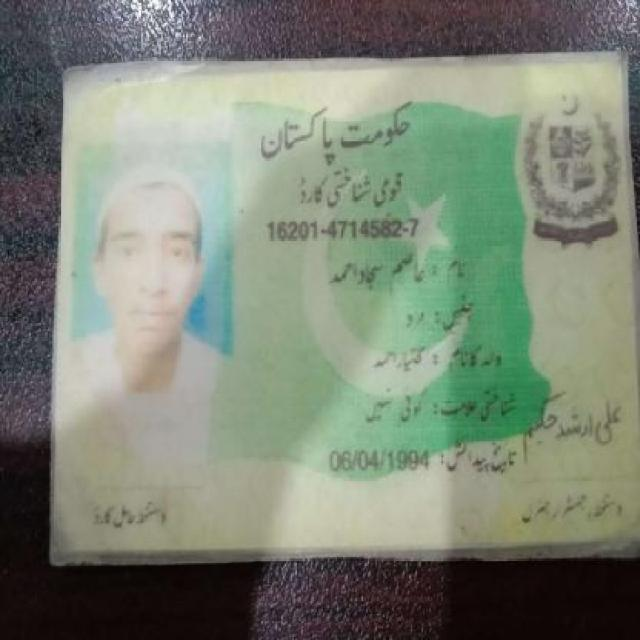Front: (58, 74, 631, 563)
